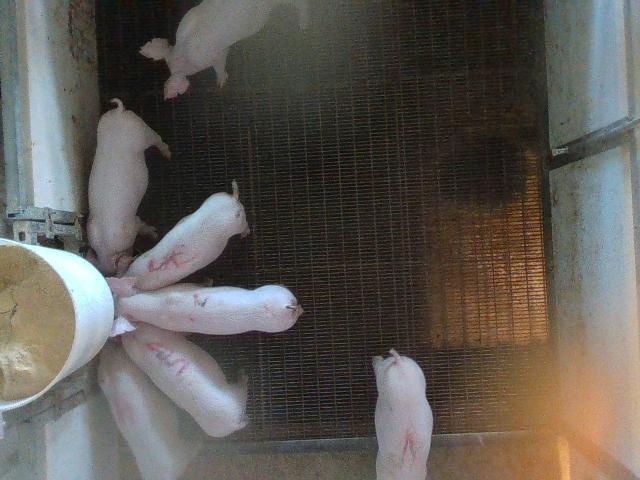pig-1: (372, 349, 432, 478)
pig-3: (122, 322, 248, 437)
pig-4: (99, 340, 189, 479)
pig-5: (125, 182, 249, 291)
